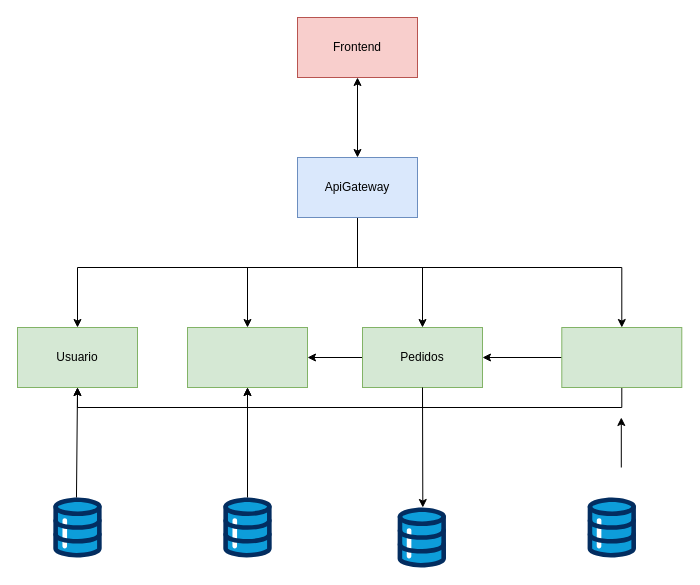
Image size: 700x585. Some labels were removed from this diagram. The centre of each missing label's shape, as x and y in pixels:
Inventario: the point at 247,357
Ventas: the point at 621,357
